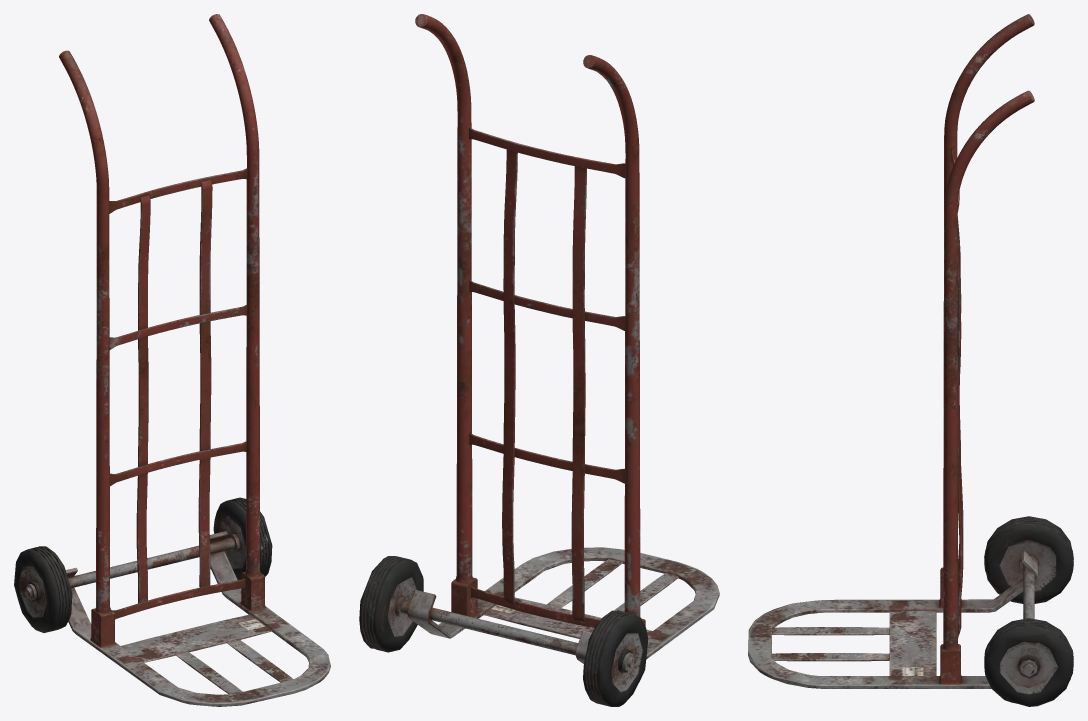
Rendered from hand_truck.glb.
3 renders of one model, left to right at view 1: azimuth 30°, elevation 25°; view 2: azimuth 150°, elevation 25°; view 3: azimuth 270°, elevation 25°, orthographic. The views are drawn at different scales.
Parts seen in each view (by area): view 1: hand_truck; view 2: hand_truck; view 3: hand_truck.
Part boxes in pixels (bbox=[...]): hand_truck: bbox=[14, 14, 330, 706]; hand_truck: bbox=[359, 14, 719, 706]; hand_truck: bbox=[748, 14, 1073, 706].
Bounding box in the file's own units: 0.5933 × 1.4 × 0.6922.
Materials: 1 (1 with a texture image).
